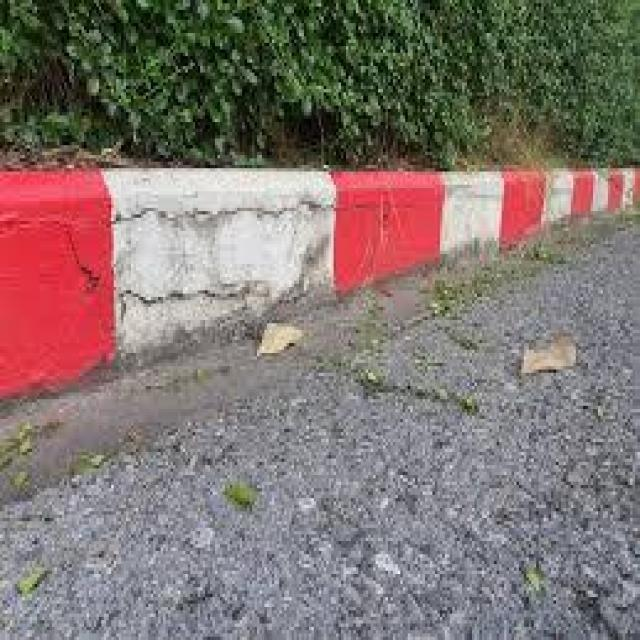bump: (8, 72, 640, 295)
